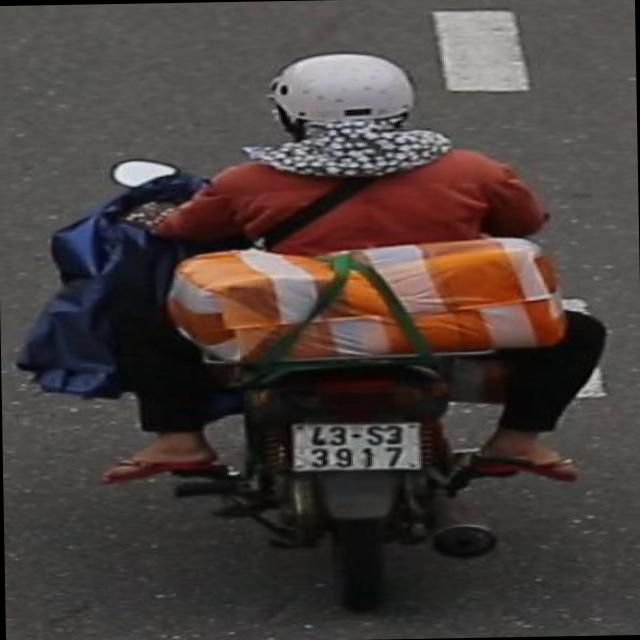LP: (282, 413, 428, 475)
helmet: (260, 46, 422, 144)
